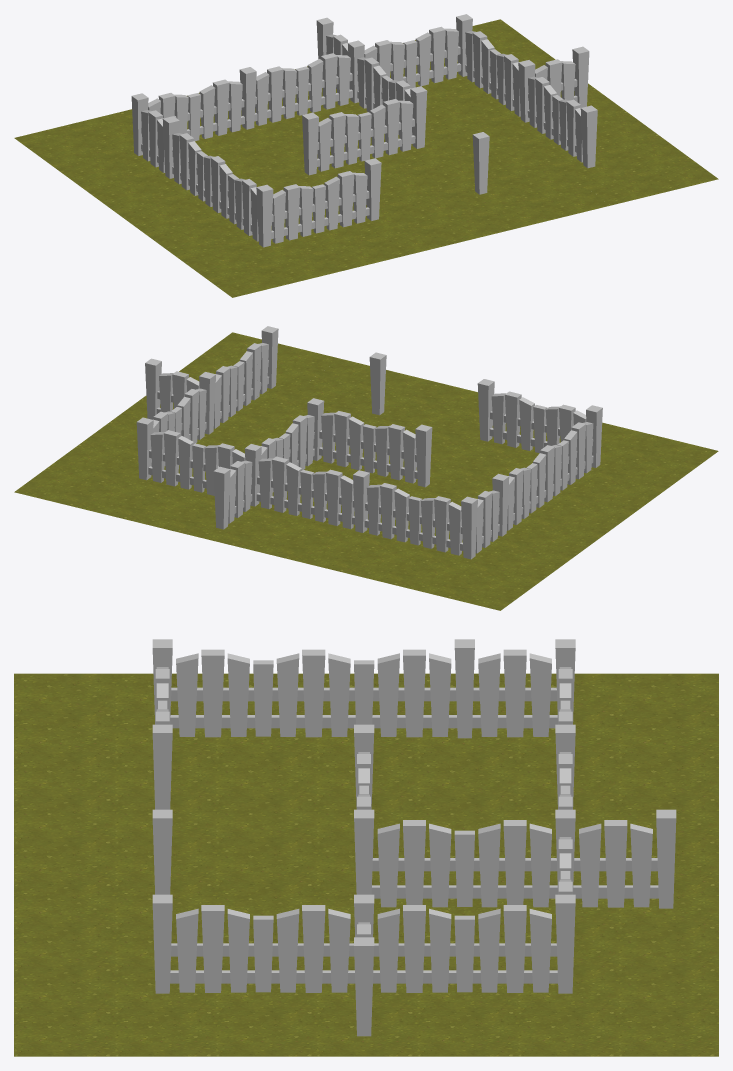
Rendered from Grass.fbx.
3 renders of one model, top to bottom at view 1: azimuth 30°, elevation 25°; view 2: azimuth 150°, elevation 25°; view 3: azimuth 270°, elevation 25°, orthographic. The views are drawn at different scales.
Parts seen in each view (by area): view 1: Object_2, Object_3; view 2: Object_2, Object_3; view 3: Object_2, Object_3.
Boxes of the visible parts, x1=… form: Object_2: x1=14, y1=19, x2=718, y2=297; Object_3: x1=131, y1=14, x2=597, y2=247; Object_2: x1=14, y1=332, x2=718, y2=610; Object_3: x1=136, y1=326, x2=602, y2=559; Object_2: x1=14, y1=673, x2=718, y2=1056; Object_3: x1=152, y1=639, x2=676, y2=1036.
Bounding box in the file's own units: 45000 × 5083 × 35000.
